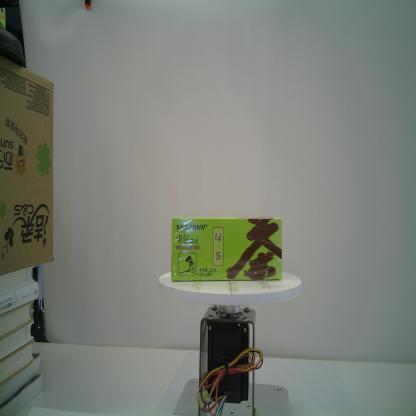Instant Drink: (170, 216, 283, 282)
